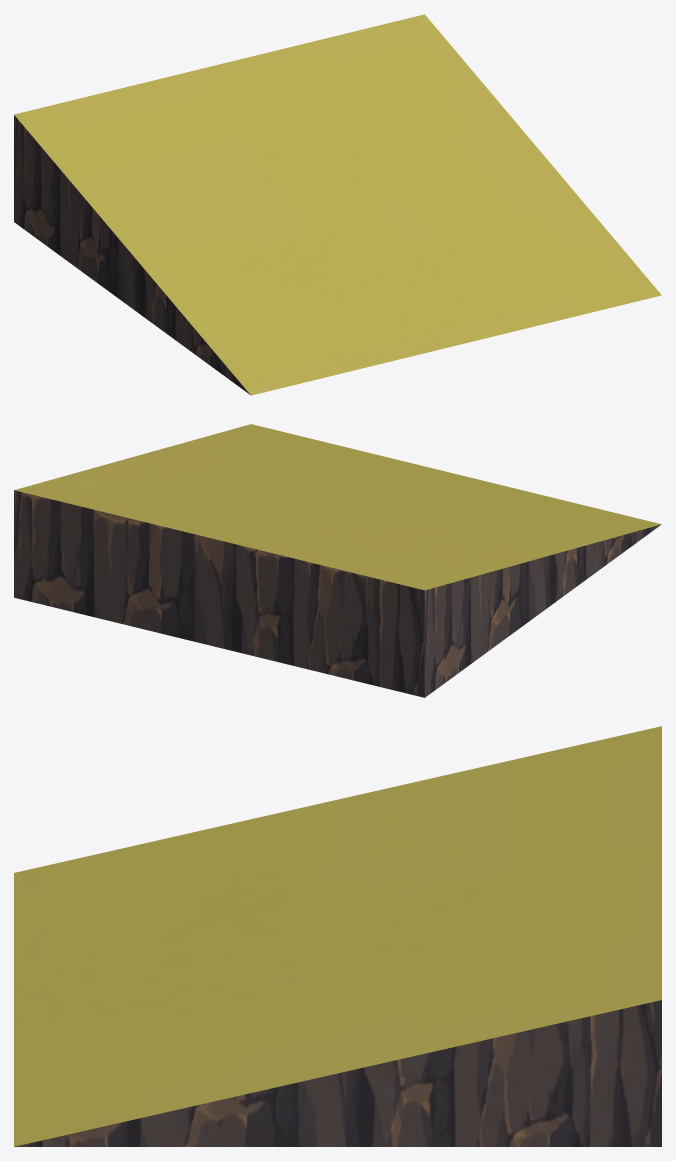
The model's file is rc_terrain_slope_16x16x4.glb.
3 renders of one model, top to bottom at view 1: azimuth 30°, elevation 25°; view 2: azimuth 150°, elevation 25°; view 3: azimuth 270°, elevation 25°, orthographic. The views are drawn at different scales.
Parts seen in each view (by area): view 1: SM_RC_Terrain_Slope_16x16x4; view 2: SM_RC_Terrain_Slope_16x16x4; view 3: SM_RC_Terrain_Slope_16x16x4.
Boxes of the visible parts, box(x1,y1,x2,y2) form: SM_RC_Terrain_Slope_16x16x4: box(14, 14, 661, 395); SM_RC_Terrain_Slope_16x16x4: box(14, 424, 661, 697); SM_RC_Terrain_Slope_16x16x4: box(14, 726, 661, 1146).
Bounding box in the file's own units: 16 × 4 × 16.
1 material, 1 textured.
